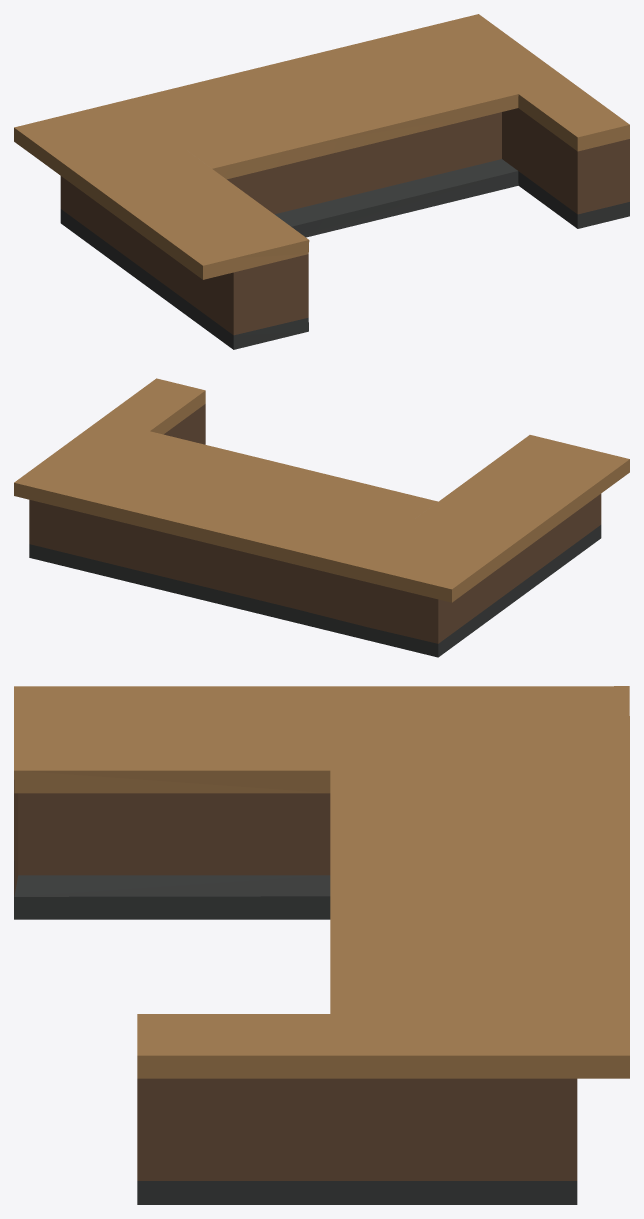
Rendered from Barra.fbx.
3 views of the same model, one above another, from view 1: azimuth 30°, elevation 25°; view 2: azimuth 150°, elevation 25°; view 3: azimuth 270°, elevation 25° (orthographic). The views are drawn at different scales.
Visible parts, largest first — view 1: Barra_LOD00; view 2: Barra_LOD00; view 3: Barra_LOD00.
Part boxes in pixels (x1,y1,x2,y2): Barra_LOD00: (14,14,629,349); Barra_LOD00: (14,378,629,657); Barra_LOD00: (14,686,629,1204).
Size of what is drawn, in the model's own units: 106 by 20 by 74.83.
